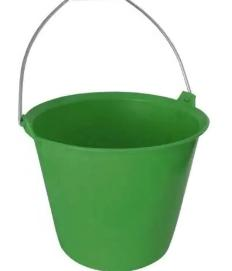SEAU: (0, 0, 218, 271)
